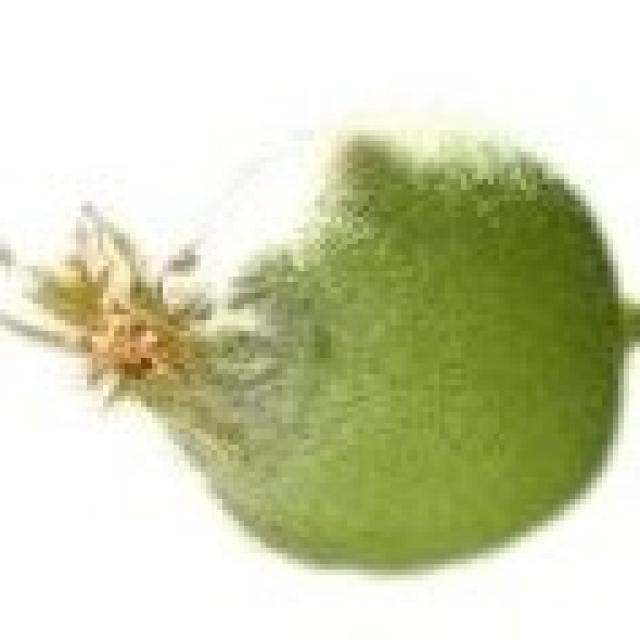20-_ripeness: (19, 113, 628, 571)
